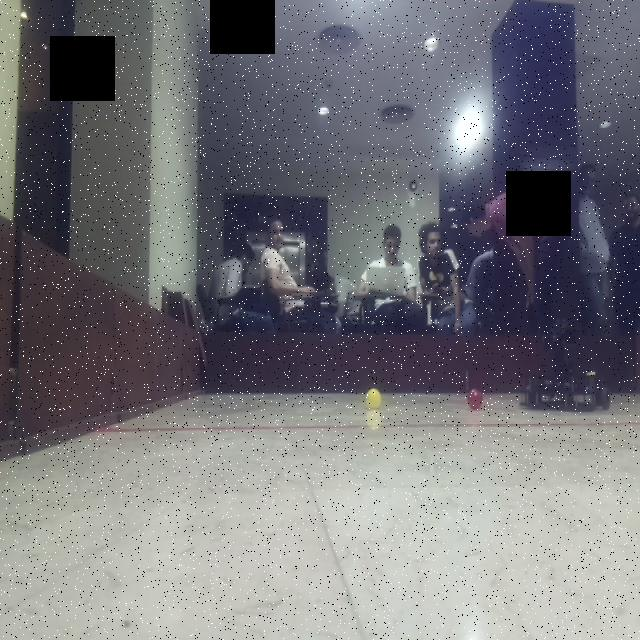ball: (464, 388, 488, 411), (364, 386, 387, 410)
